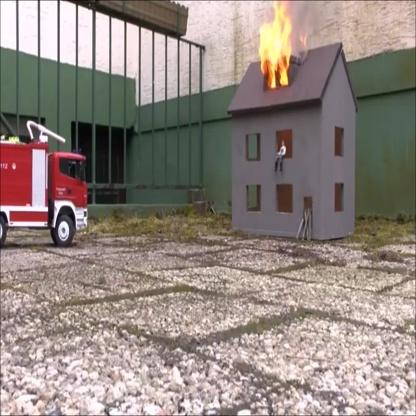Fire: (257, 0, 303, 86)
